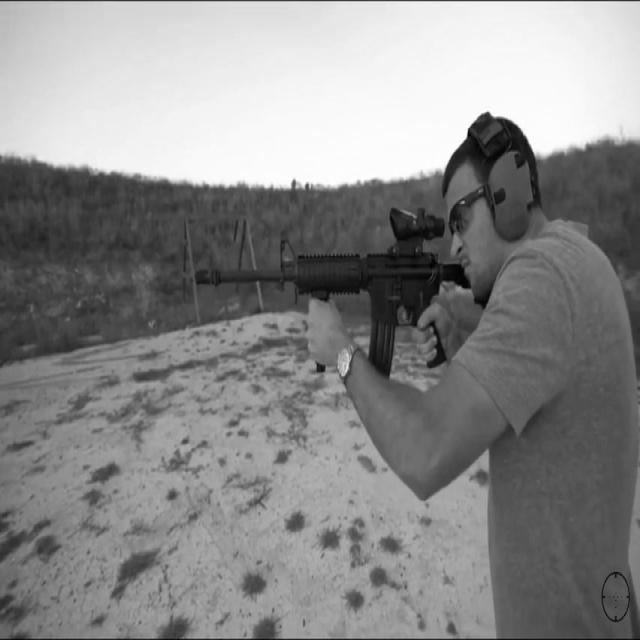Sniper: (216, 167, 504, 446)
